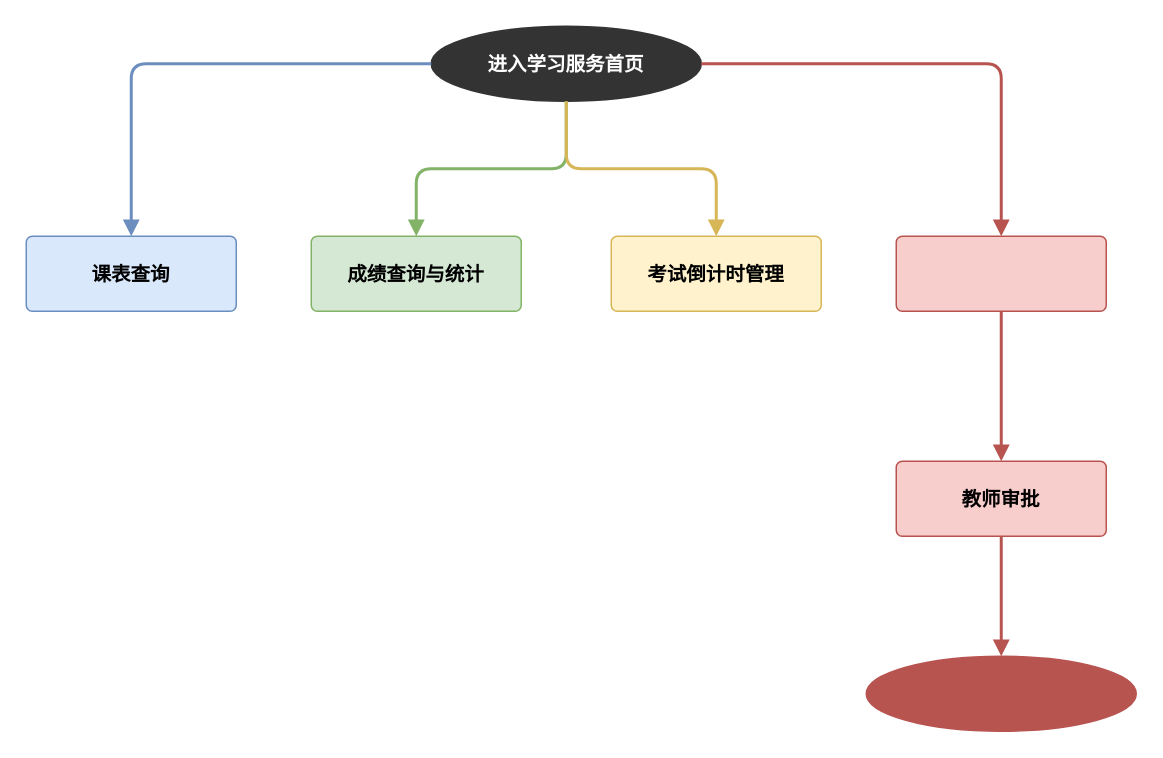
The diagram is 1163 pixels wide and 758 high, and some of its shapes have lost their labels. Here are the shapes that lost their labels. From the top down, the box of each, then its label:
(895, 235, 1106, 311): 请假申请
(865, 655, 1136, 731): 学生查看审批结果
